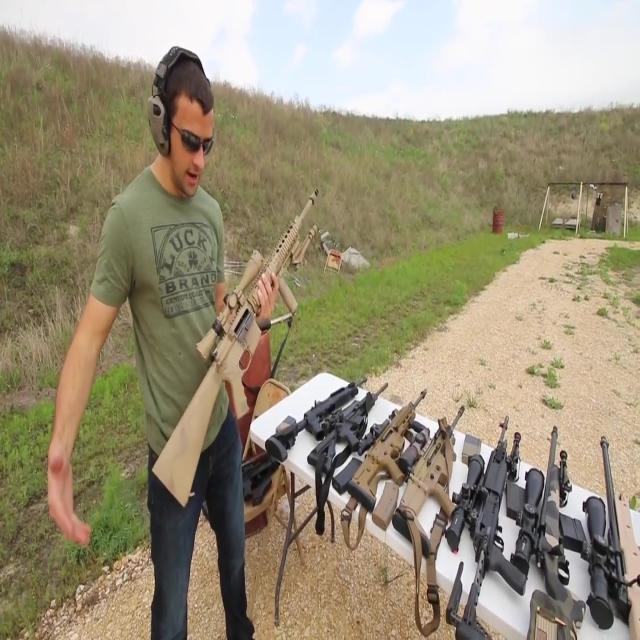Weapon: (263, 363, 640, 639), (117, 168, 345, 532)
